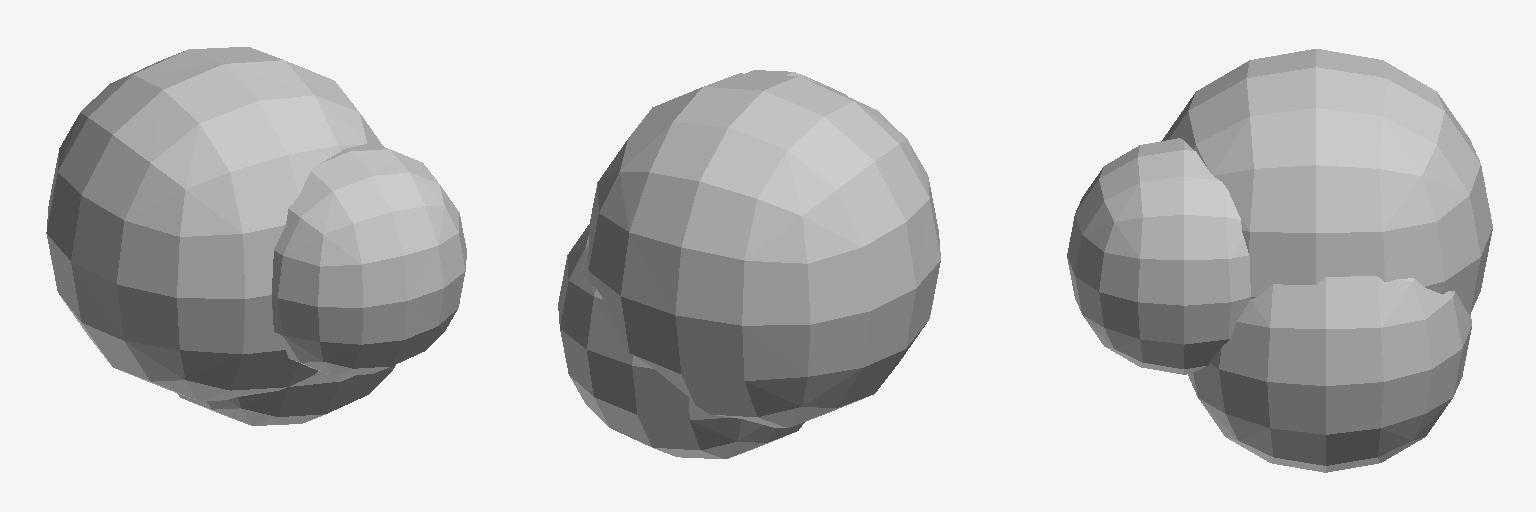
The model's file is dust.obj.
3 views of the same model, side by side, from view 1: azimuth 30°, elevation 25°; view 2: azimuth 150°, elevation 25°; view 3: azimuth 270°, elevation 25° (orthographic).
Parts seen in each view (by area): view 1: Cube.002; view 2: Cube.002; view 3: Cube.002.
Part boxes in pixels (x1,y1,x2,y2): Cube.002: (46,47,466,425); Cube.002: (558,70,940,458); Cube.002: (1067,49,1492,472).
Bounding box in the file's own units: 2.2 × 2.3 × 2.44.